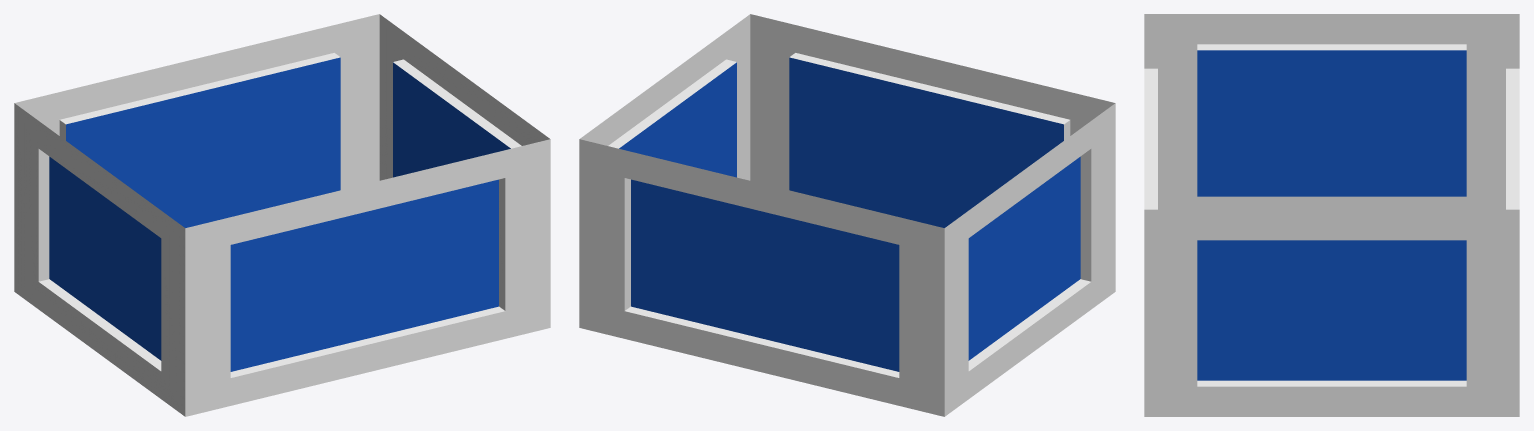
File: CityBuildingD_01_floor.fbx
3 renders of one model, left to right at view 1: azimuth 30°, elevation 25°; view 2: azimuth 150°, elevation 25°; view 3: azimuth 270°, elevation 25°, orthographic. The views are drawn at different scales.
Visible parts, largest first — view 1: CityBuildingD_01_floor; view 2: CityBuildingD_01_floor; view 3: CityBuildingD_01_floor.
Boxes of the visible parts, x1=… form: CityBuildingD_01_floor: x1=14, y1=14, x2=550, y2=416; CityBuildingD_01_floor: x1=579, y1=14, x2=1115, y2=416; CityBuildingD_01_floor: x1=1144, y1=14, x2=1519, y2=416.
Size of the model in its own units: 0.6706 by 0.3312 by 0.5438.
